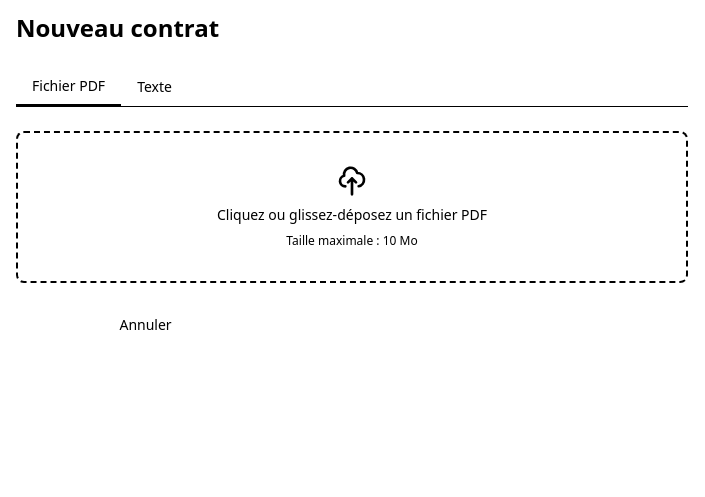
Test: NewContractPage › switches to text mode when clicking Texte tab
Click the button "Texte". click: coordinates (154, 87)
box: [121, 68, 188, 106]
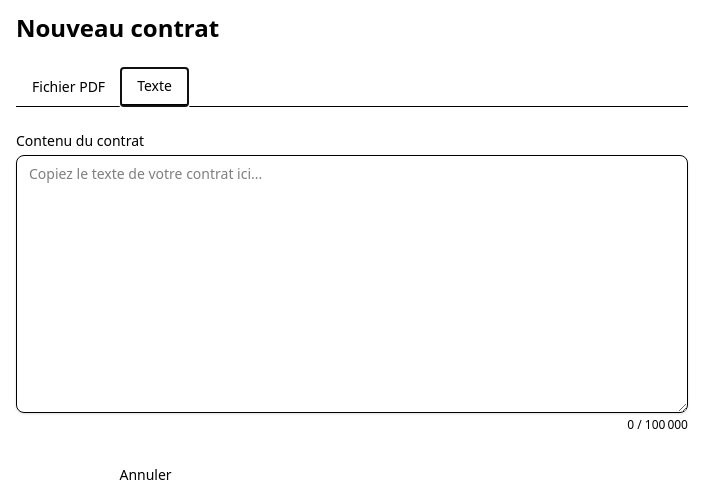
Result: the text box with placeholder "Copiez le texte de votre contrat ici..." is shown at [16, 155, 688, 413]
